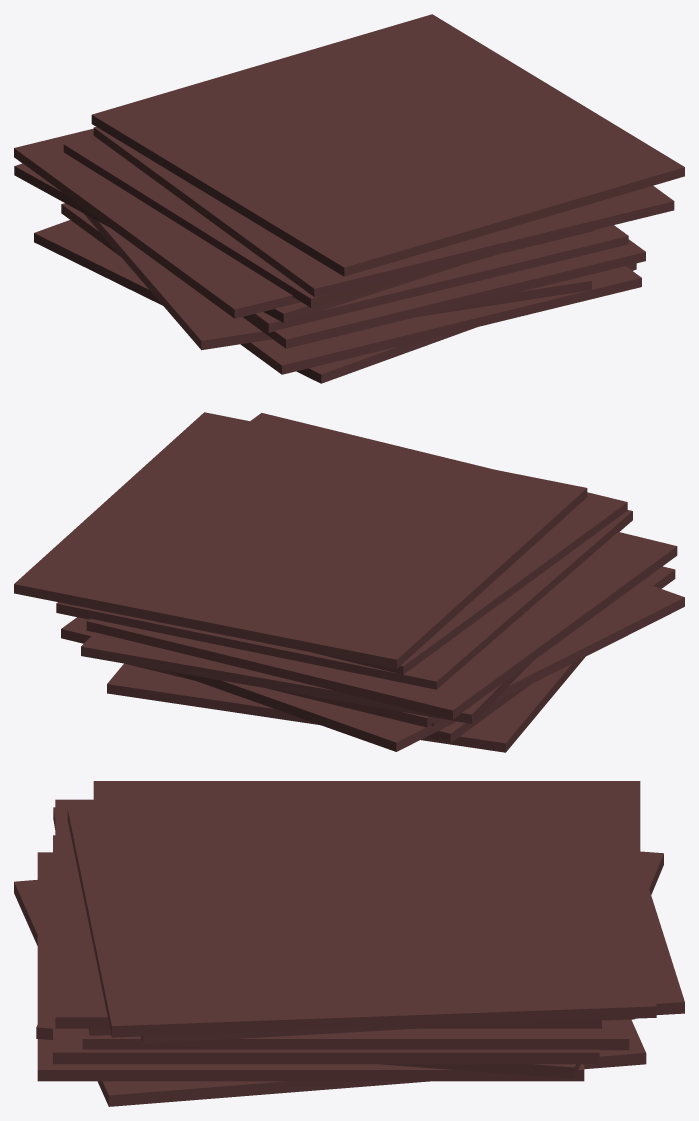
The model's file is Serviettes_1.fbx.
3 views of the same model, one above another, from view 1: azimuth 30°, elevation 25°; view 2: azimuth 150°, elevation 25°; view 3: azimuth 270°, elevation 25° (orthographic). The views are drawn at different scales.
Visible parts, largest first — view 1: verrerie:pCube1131, verrerie:pCube1123, verrerie:pCube1129, verrerie:pCube1126, verrerie:pCube1127, verrerie:pCube1122, verrerie:pCube1130, verrerie:pCube1128, verrerie:pCube1125, verrerie:pCube1124; view 2: verrerie:pCube1131, verrerie:pCube1129, verrerie:pCube1130, verrerie:pCube1122, verrerie:pCube1123, verrerie:pCube1125, verrerie:pCube1124, verrerie:pCube1128, verrerie:pCube1126; view 3: verrerie:pCube1131, verrerie:pCube1126, verrerie:pCube1129, verrerie:pCube1123, verrerie:pCube1127, verrerie:pCube1128, verrerie:pCube1125, verrerie:pCube1124, verrerie:pCube1130.
Part boxes in pixels (<box>): verrerie:pCube1131: <box>91,14,684,276</box>; verrerie:pCube1123: <box>93,127,674,297</box>; verrerie:pCube1129: <box>14,128,594,318</box>; verrerie:pCube1126: <box>61,203,641,374</box>; verrerie:pCube1127: <box>243,239,645,348</box>; verrerie:pCube1122: <box>63,136,522,307</box>; verrerie:pCube1130: <box>84,213,591,350</box>; verrerie:pCube1128: <box>246,225,628,332</box>; verrerie:pCube1125: <box>34,220,636,383</box>; verrerie:pCube1124: <box>14,163,460,322</box>; verrerie:pCube1131: <box>14,412,587,668</box>; verrerie:pCube1129: <box>86,532,677,719</box>; verrerie:pCube1130: <box>169,582,684,751</box>; verrerie:pCube1122: <box>56,510,632,689</box>; verrerie:pCube1123: <box>250,413,627,675</box>; verrerie:pCube1125: <box>107,657,584,752</box>; verrerie:pCube1124: <box>81,632,532,723</box>; verrerie:pCube1128: <box>61,617,439,727</box>; verrerie:pCube1126: <box>127,566,675,742</box>; verrerie:pCube1131: <box>67,789,656,1037</box>; verrerie:pCube1126: <box>37,852,584,1081</box>; verrerie:pCube1129: <box>93,781,640,924</box>; verrerie:pCube1123: <box>55,799,601,1028</box>; verrerie:pCube1127: <box>53,835,599,1064</box>; verrerie:pCube1128: <box>82,1019,629,1050</box>; verrerie:pCube1125: <box>14,880,646,1106</box>; verrerie:pCube1124: <box>141,861,684,1044</box>; verrerie:pCube1130: <box>36,851,663,1078</box>.
Size of the model in its own units: 17.25 by 3.08 by 16.93.
